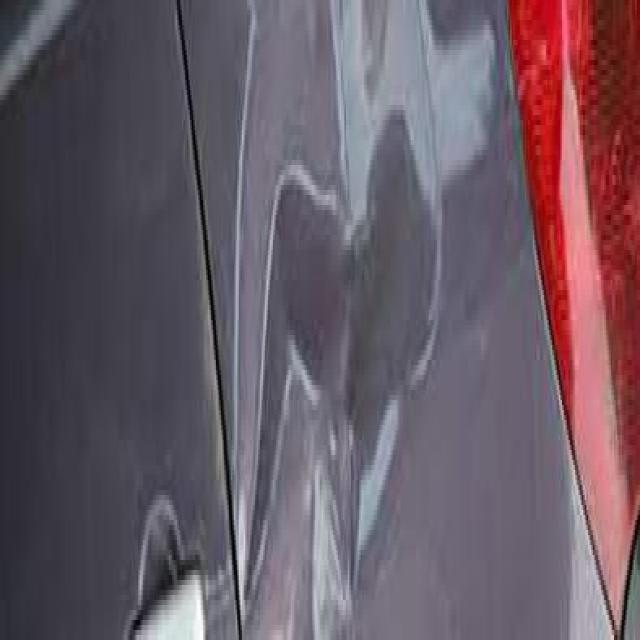dent: (180, 5, 484, 640)
